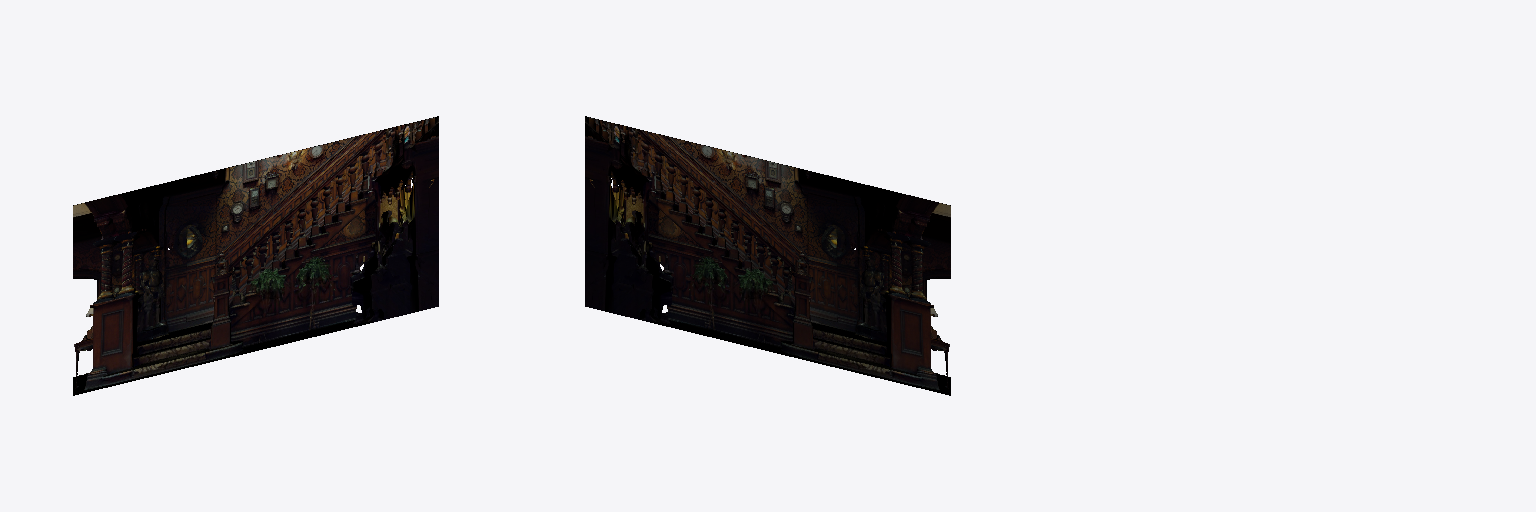
3 views of the same model, side by side, from view 1: azimuth 30°, elevation 25°; view 2: azimuth 150°, elevation 25°; view 3: azimuth 270°, elevation 25° (orthographic).
Visible parts, largest first — view 1: Kitchen_GEO_GRP1_Hallway_02; view 2: Kitchen_GEO_GRP1_Hallway_02; view 3: none.
Part boxes in pixels (x1,y1,x2,y2): Kitchen_GEO_GRP1_Hallway_02: (73, 116, 438, 395); Kitchen_GEO_GRP1_Hallway_02: (585, 116, 950, 395).
Size of the model in its own units: 7.52 by 3.75 by 0.
Materials: 1 (1 with a texture image).